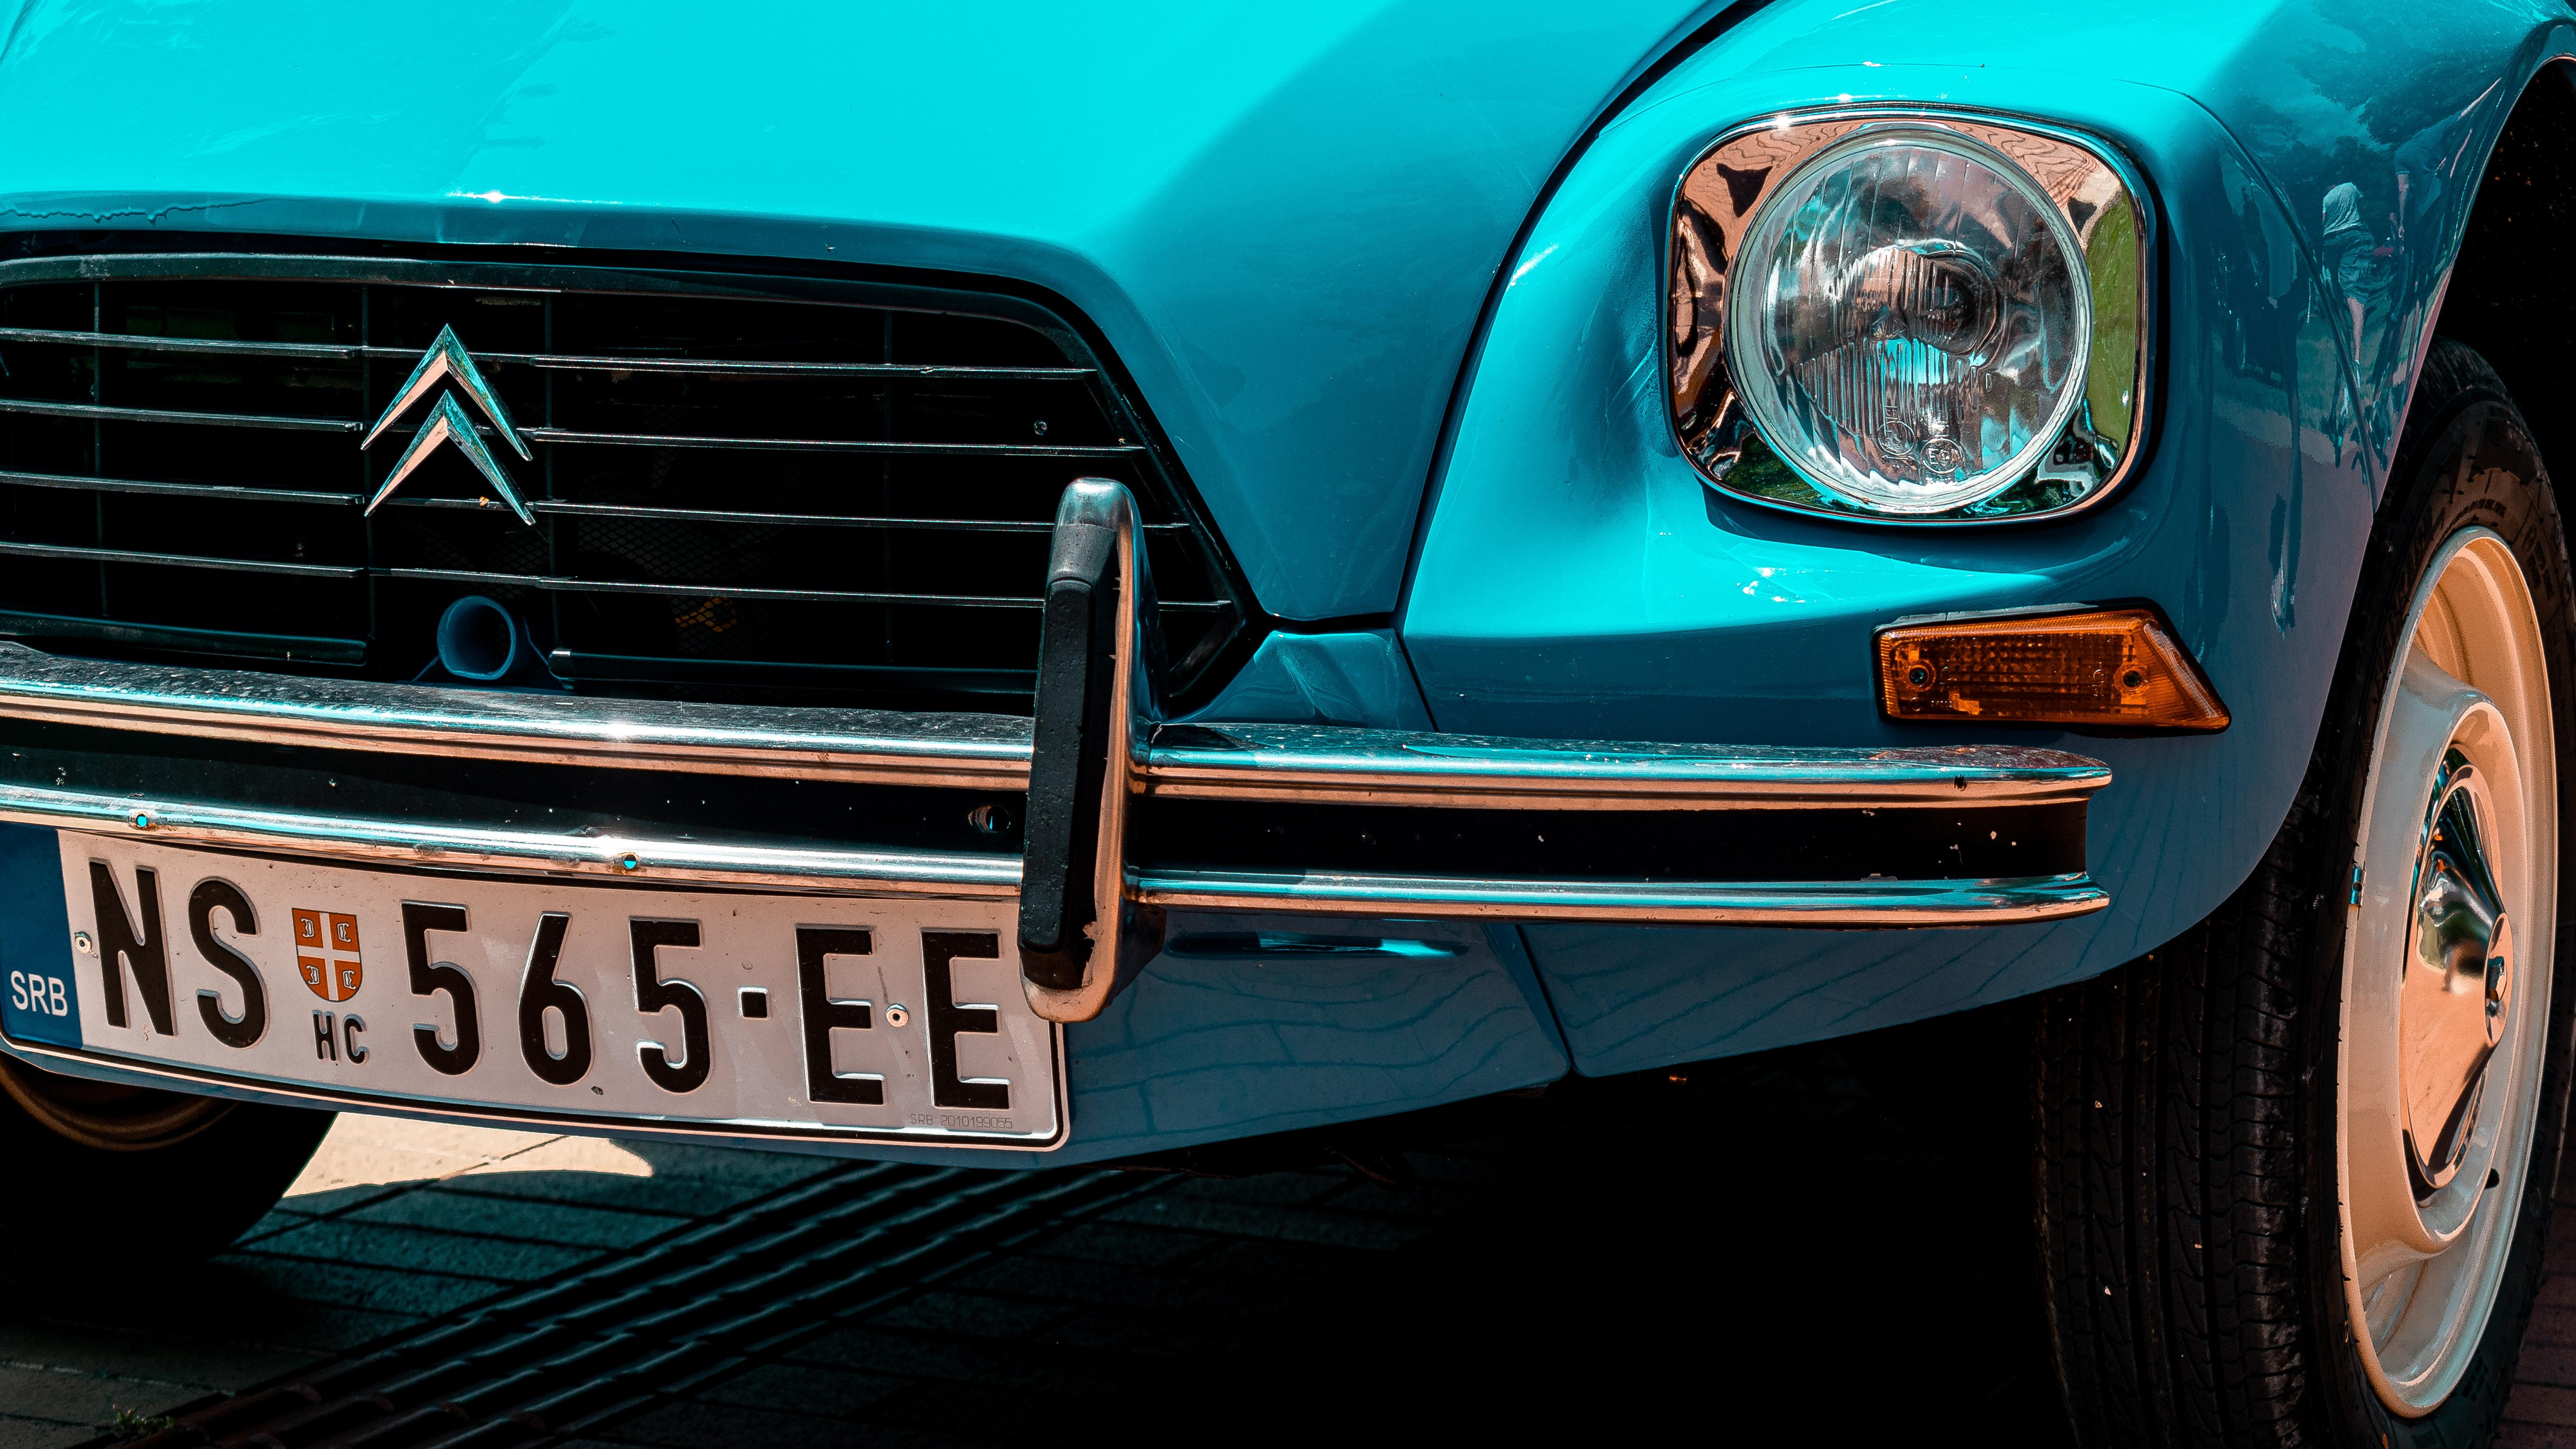Citroen: (318, 288, 575, 568)
